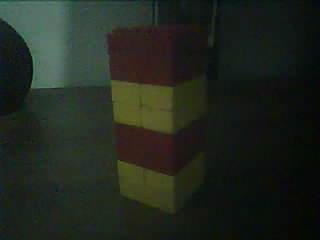lego: (106, 25, 209, 214)
